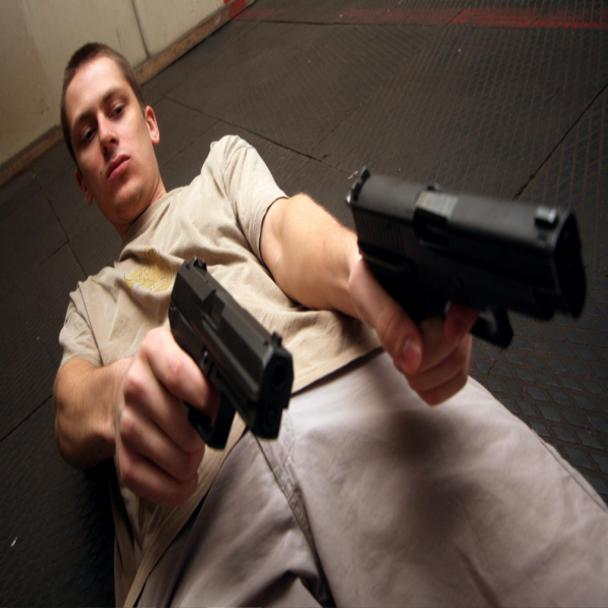Gun: (344, 146, 586, 319), (176, 240, 296, 447)
Hand: (330, 253, 474, 420), (98, 327, 212, 515)
